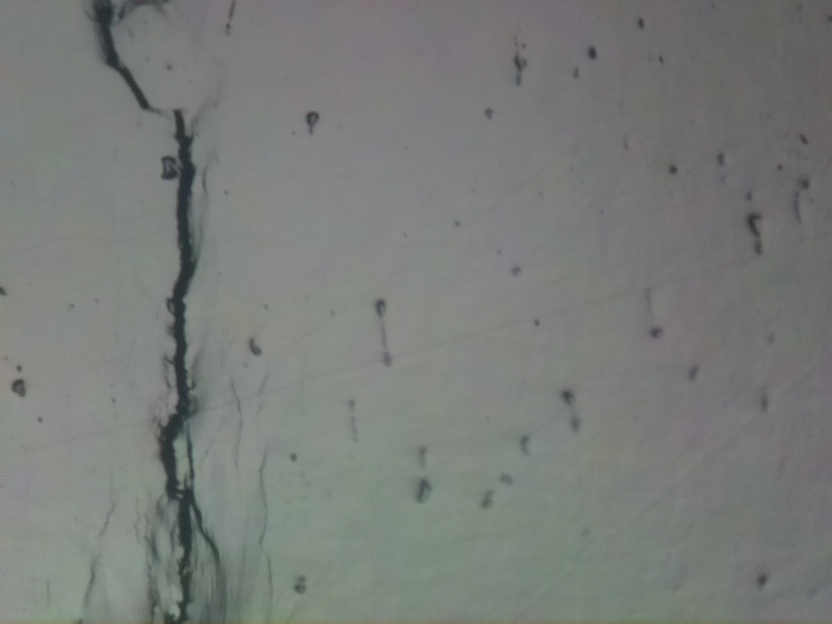crack: (165, 108, 217, 616), (92, 0, 157, 113)
